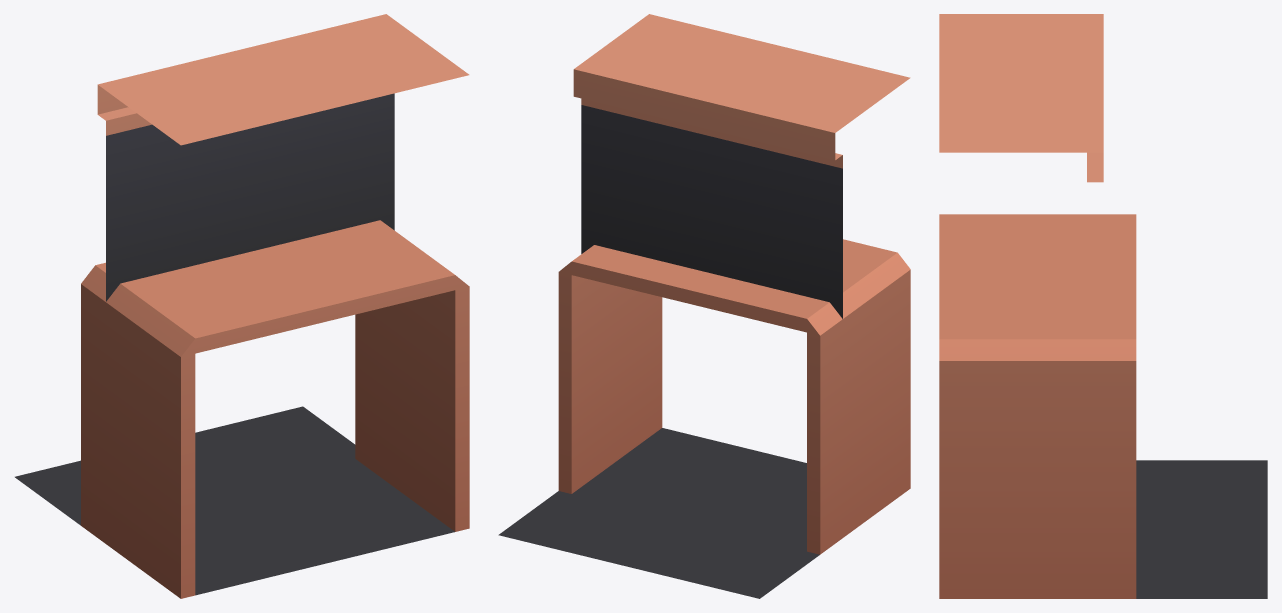
File: structure-doorway-wide.obj
The picture shows the model from 3 angles, left to right: view 1: azimuth 30°, elevation 25°; view 2: azimuth 150°, elevation 25°; view 3: azimuth 270°, elevation 25°; orthographic projection. The views are drawn at different scales.
Visible parts, largest first — view 1: structure-doorway-wide; view 2: structure-doorway-wide; view 3: structure-doorway-wide.
Part boxes in pixels (box(x1,y1,x2,y2)): structure-doorway-wide: box(15, 14, 469, 598); structure-doorway-wide: box(498, 14, 910, 598); structure-doorway-wide: box(939, 14, 1267, 598).
Bounding box in the file's own units: 2 × 3 × 2.
